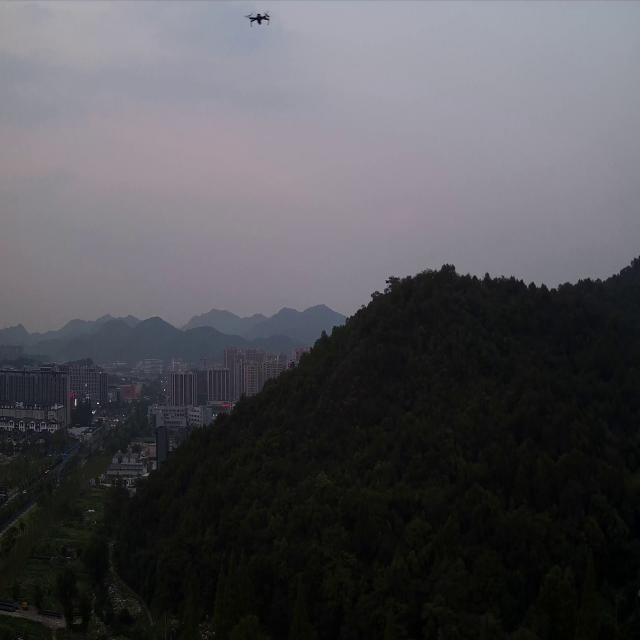drone: (243, 10, 271, 28)
